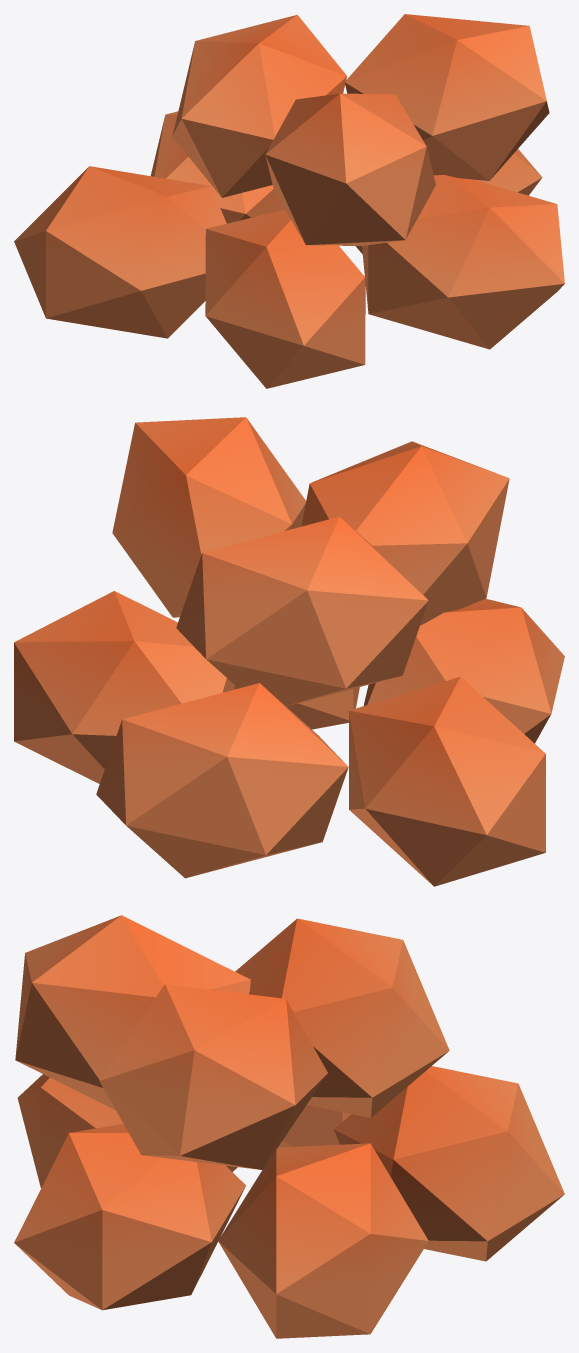
File: food_grapes_large.fbx
The picture shows the model from 3 angles, top to bottom: view 1: azimuth 30°, elevation 25°; view 2: azimuth 150°, elevation 25°; view 3: azimuth 270°, elevation 25°; orthographic projection. The views are drawn at different scales.
Parts seen in each view (by area): view 1: pPlatonic13; view 2: pPlatonic13; view 3: pPlatonic13.
Part boxes in pixels (box(x1,y1,x2,y2)): pPlatonic13: box(14, 14, 564, 388); pPlatonic13: box(14, 417, 564, 886); pPlatonic13: box(14, 915, 564, 1338).
Bounding box in the file's own units: 73.26 × 42.18 × 64.66.
Materials: 1 (1 with a texture image).
